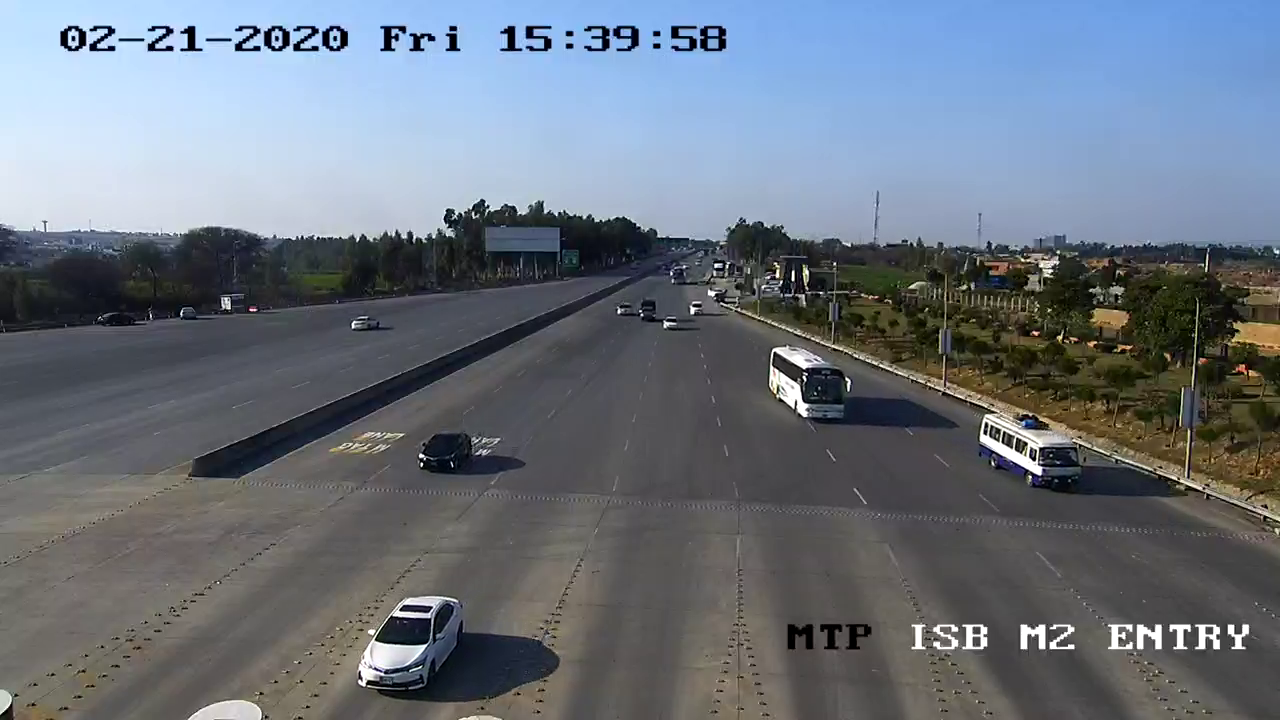f1: (342, 581, 475, 703), (412, 422, 477, 480)
f3: (970, 406, 1086, 508)
f4: (757, 333, 858, 429)
